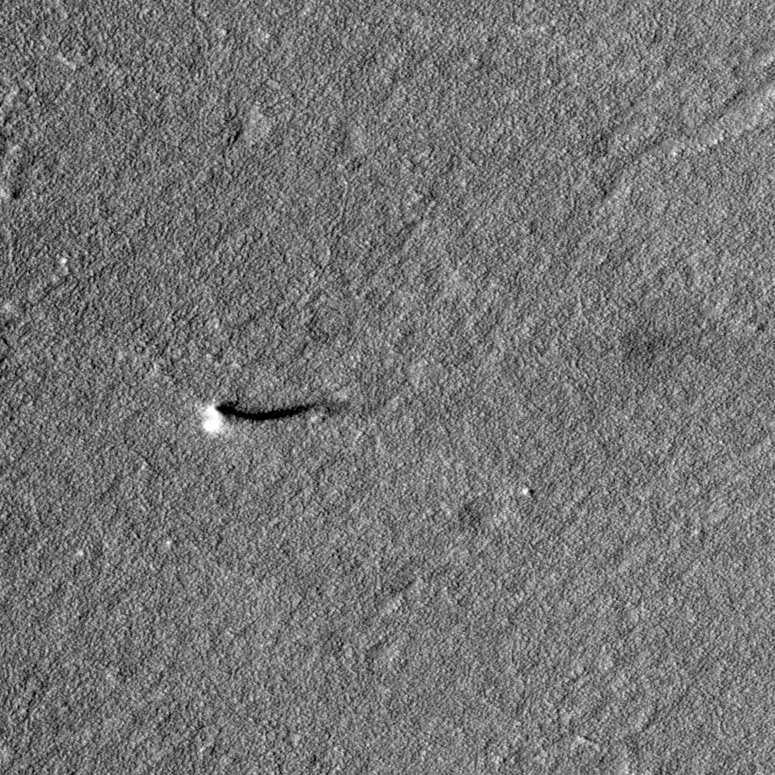dust_devil: (201, 399, 352, 436)
